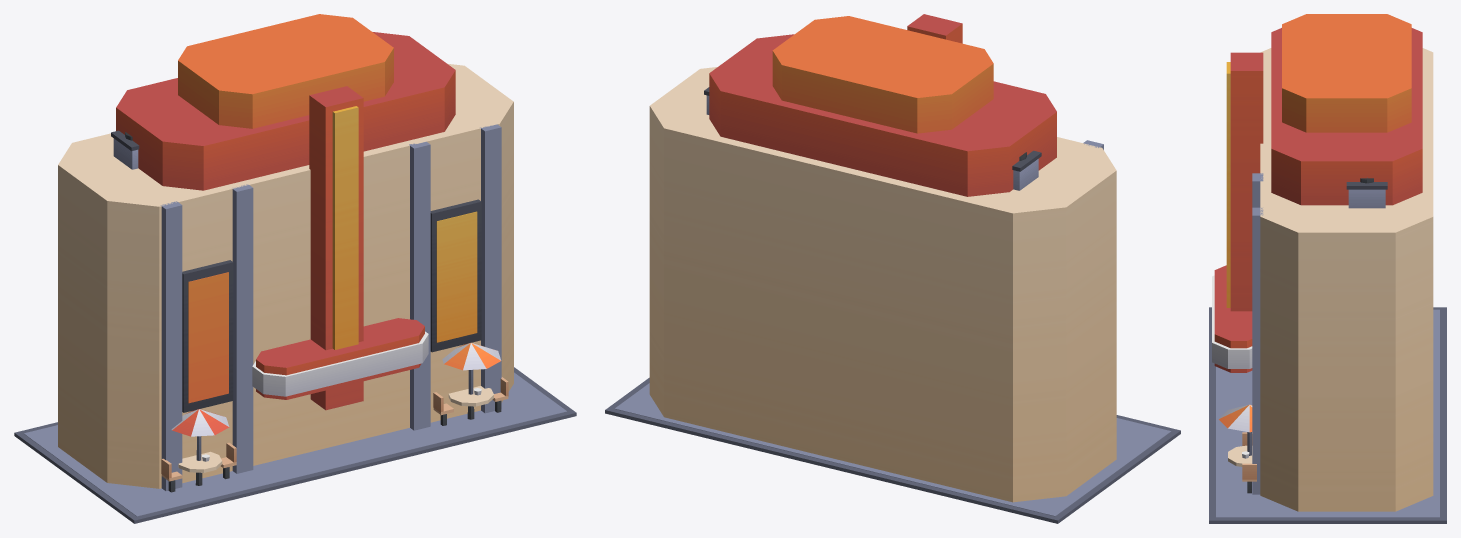
Rendered from com_cinema_palace_2x1.glb.
3 renders of one model, left to right at view 1: azimuth 30°, elevation 25°; view 2: azimuth 150°, elevation 25°; view 3: azimuth 270°, elevation 25°, orthographic. The views are drawn at different scales.
Visible parts, largest first — view 1: com_cinema_palace_2x1; view 2: com_cinema_palace_2x1; view 3: com_cinema_palace_2x1.
Boxes of the visible parts, x1,y1,x2,y2 form: com_cinema_palace_2x1: (14,14,576,523); com_cinema_palace_2x1: (605,14,1180,523); com_cinema_palace_2x1: (1209,14,1446,523).
Bounding box in the file's own units: 3.74 × 2.95 × 1.76.
1 material, 1 textured.
